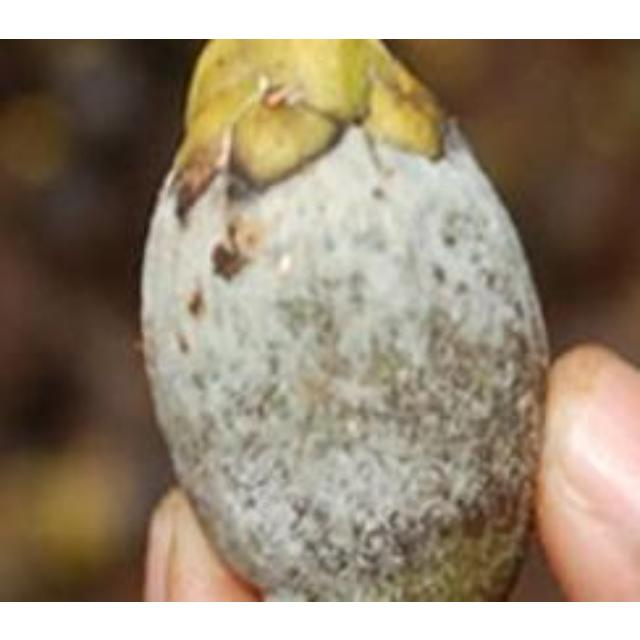damaged: (139, 38, 553, 599)
